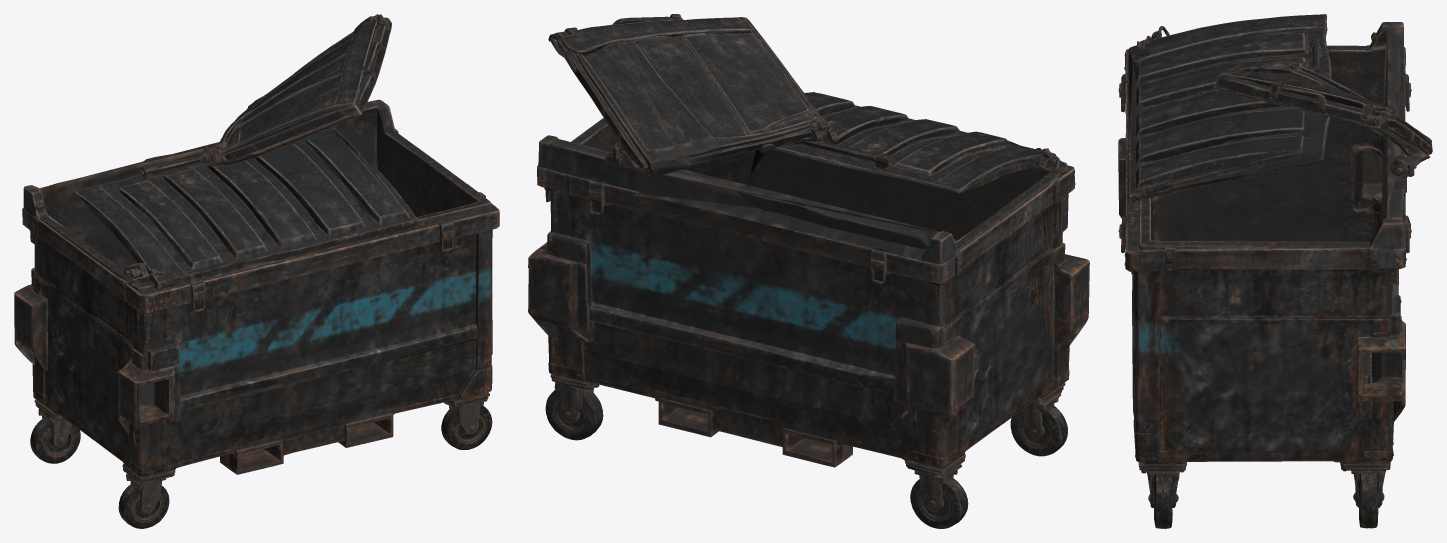
Rendered from dumpster.glb.
3 renders of one model, left to right at view 1: azimuth 30°, elevation 25°; view 2: azimuth 150°, elevation 25°; view 3: azimuth 270°, elevation 25°, orthographic. The views are drawn at different scales.
Visible parts, largest first — view 1: output_unwrapped; view 2: output_unwrapped; view 3: output_unwrapped.
Boxes of the visible parts, x1,y1,x2,y2 form: output_unwrapped: [14, 14, 499, 528]; output_unwrapped: [528, 14, 1089, 528]; output_unwrapped: [1118, 14, 1432, 528].
Size of the model in its own units: 1.89 by 1.74 by 1.18.
Materials: 1 (1 with a texture image).
